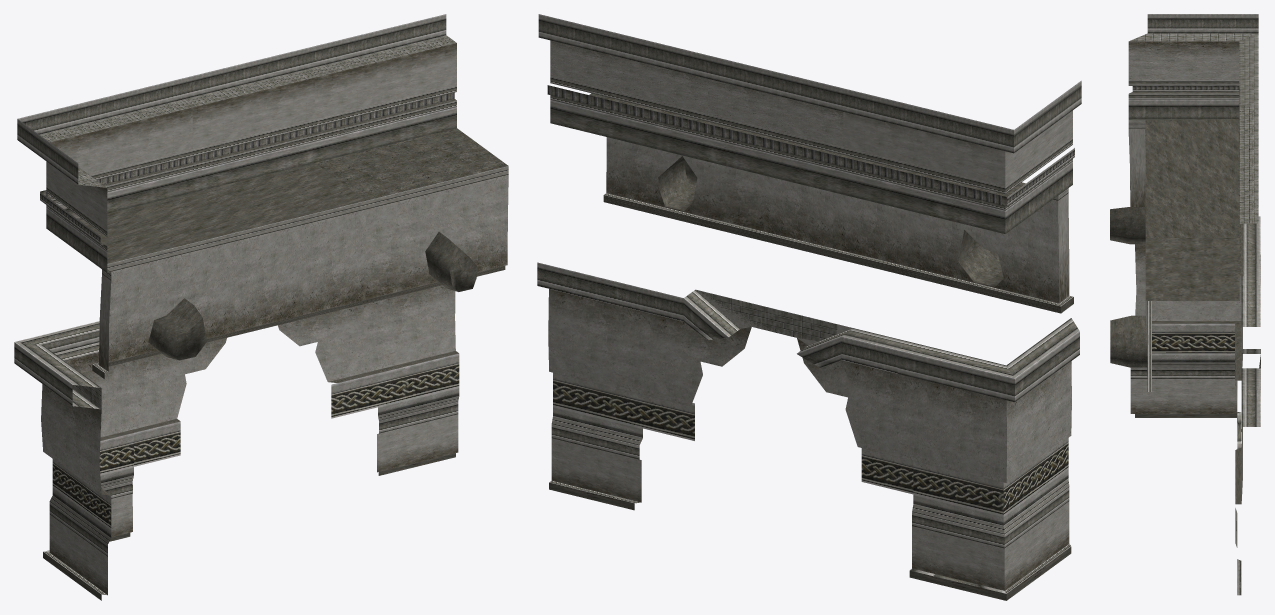
Rendered from DWARF_PALACE_MAINHALL_WALL01B.fbx.
3 renders of one model, left to right at view 1: azimuth 30°, elevation 25°; view 2: azimuth 150°, elevation 25°; view 3: azimuth 270°, elevation 25°, orthographic. The views are drawn at different scales.
Parts seen in each view (by area): view 1: DWARF_PALACE_MAINHALL_WALL01B; view 2: DWARF_PALACE_MAINHALL_WALL01B; view 3: DWARF_PALACE_MAINHALL_WALL01B.
Boxes of the visible parts, <box> form: DWARF_PALACE_MAINHALL_WALL01B: <box>14,14,508,600</box>; DWARF_PALACE_MAINHALL_WALL01B: <box>537,14,1081,600</box>; DWARF_PALACE_MAINHALL_WALL01B: <box>1110,14,1260,595</box>.
Size of the model in its own units: 212005 by 205000 by 70632.
10 materials, 10 textured.
